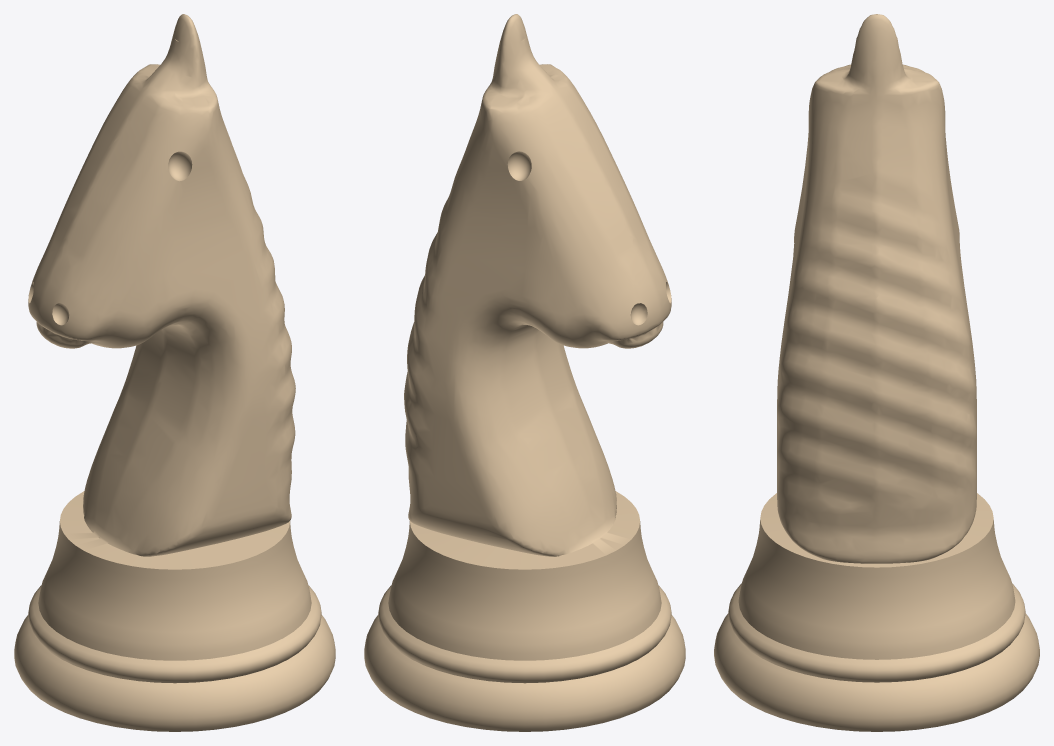
The model's file is white-knight.glb.
3 renders of one model, left to right at view 1: azimuth 30°, elevation 25°; view 2: azimuth 150°, elevation 25°; view 3: azimuth 270°, elevation 25°, orthographic.
Parts seen in each view (by area): view 1: white-knight.001; view 2: white-knight.001; view 3: white-knight.001.
Part boxes in pixels (x1,y1,x2,y2): white-knight.001: (14, 14, 335, 731); white-knight.001: (364, 14, 685, 731); white-knight.001: (714, 14, 1039, 731).
Bounding box in the file's own units: 0.5828 × 1.3 × 0.5828.
